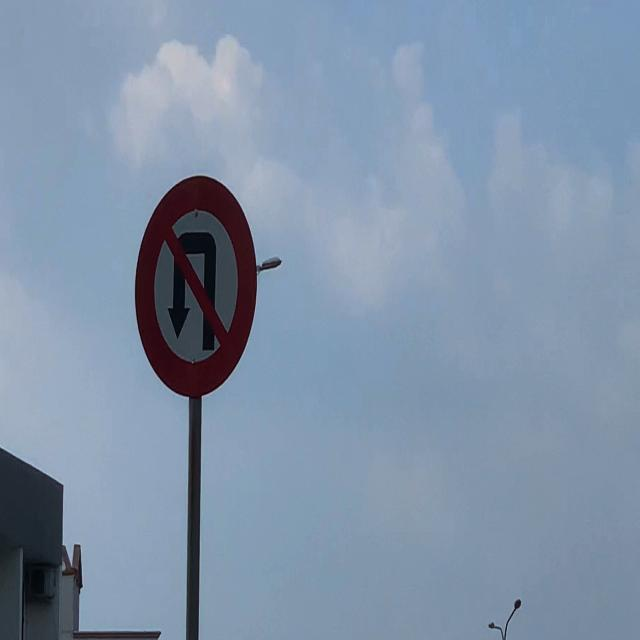Cam quay dau xe: (132, 166, 257, 402)
